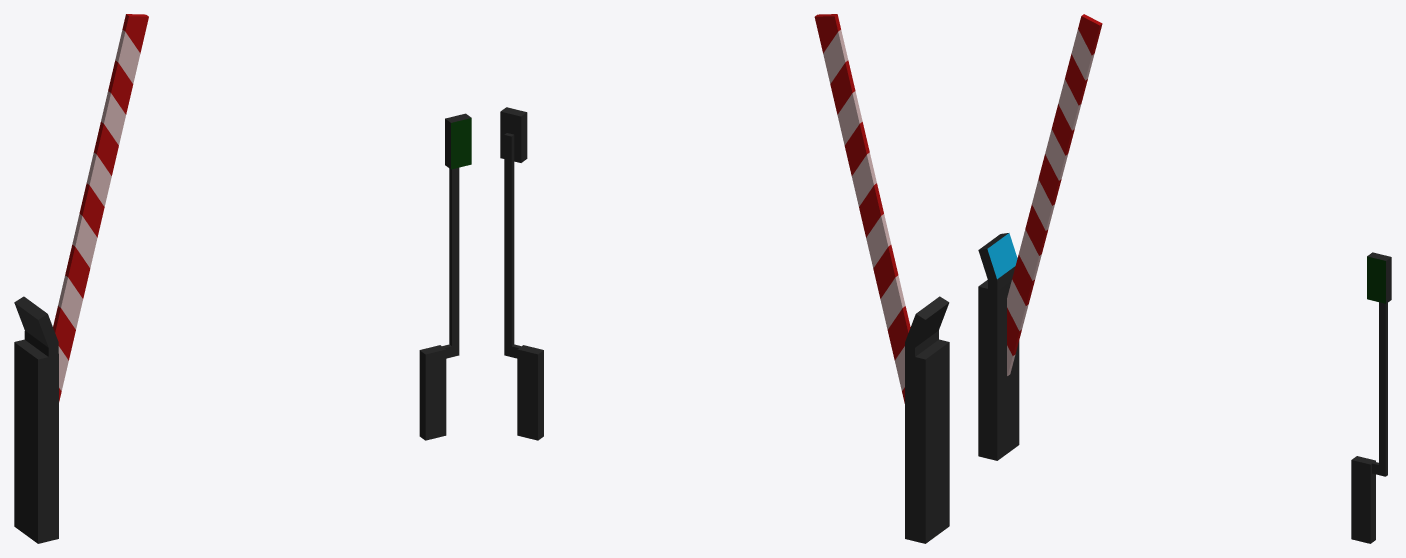
File: SM_barrier_open.FBX
3 renders of one model, left to right at view 1: azimuth 30°, elevation 25°; view 2: azimuth 150°, elevation 25°; view 3: azimuth 330°, elevation 25°, orthographic. The views are drawn at different scales.
Visible parts, largest first — view 1: barrier_open; view 2: barrier_open; view 3: barrier_open.
Boxes of the visible parts, x1=… form: barrier_open: x1=14, y1=14, x2=471, y2=543; barrier_open: x1=500, y1=14, x2=949, y2=543; barrier_open: x1=978, y1=14, x2=1391, y2=543.
Size of the model in its own units: 423 by 457 by 40.
